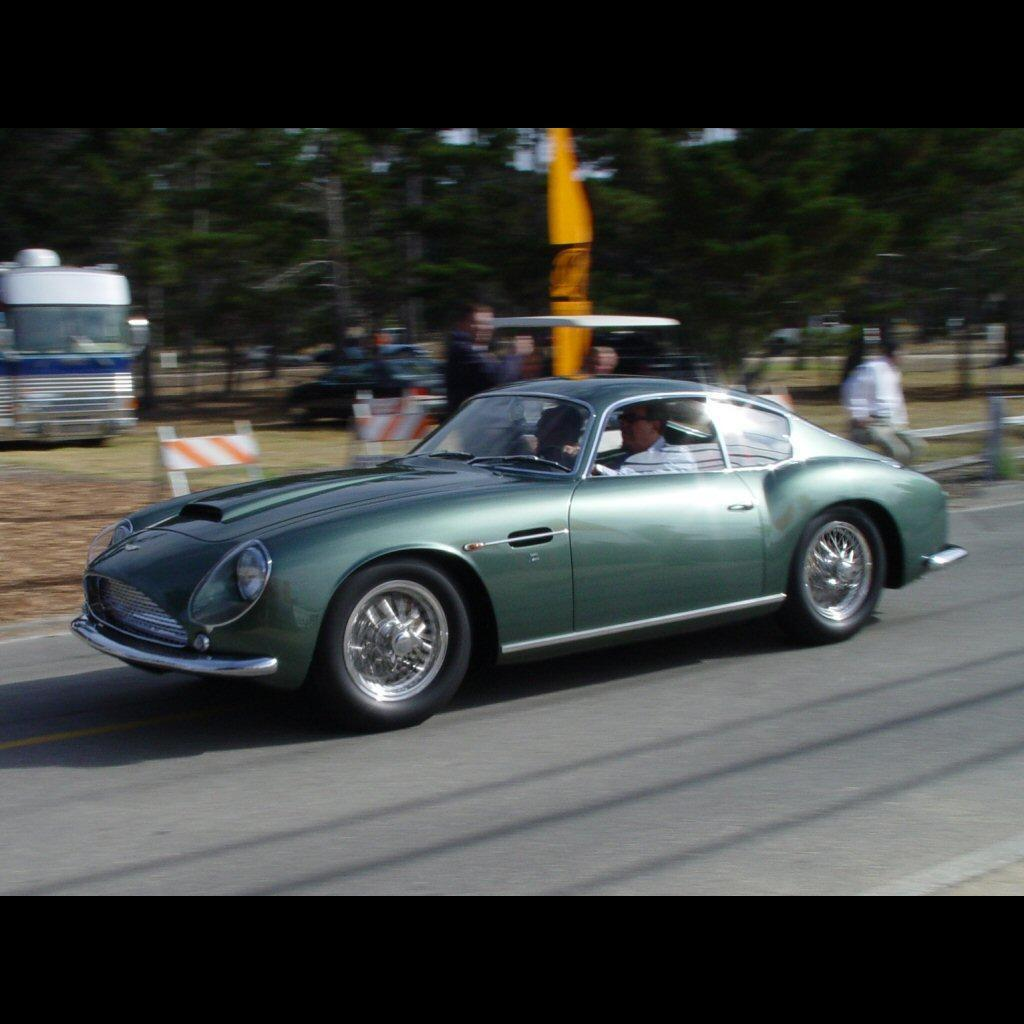aero: (457, 526, 569, 550)
bodysurface: (477, 478, 791, 667)
coupe: (67, 375, 967, 730)
dlo: (587, 393, 792, 478)
fender: (257, 481, 527, 597), (763, 455, 928, 537)
frontbumper: (70, 608, 277, 681)
grill: (81, 573, 187, 647)
headlamp: (187, 540, 269, 623), (87, 518, 129, 573)
opening: (176, 502, 220, 521)
rearbumper: (923, 541, 967, 573)
wheel: (342, 577, 449, 703), (803, 518, 873, 622)
